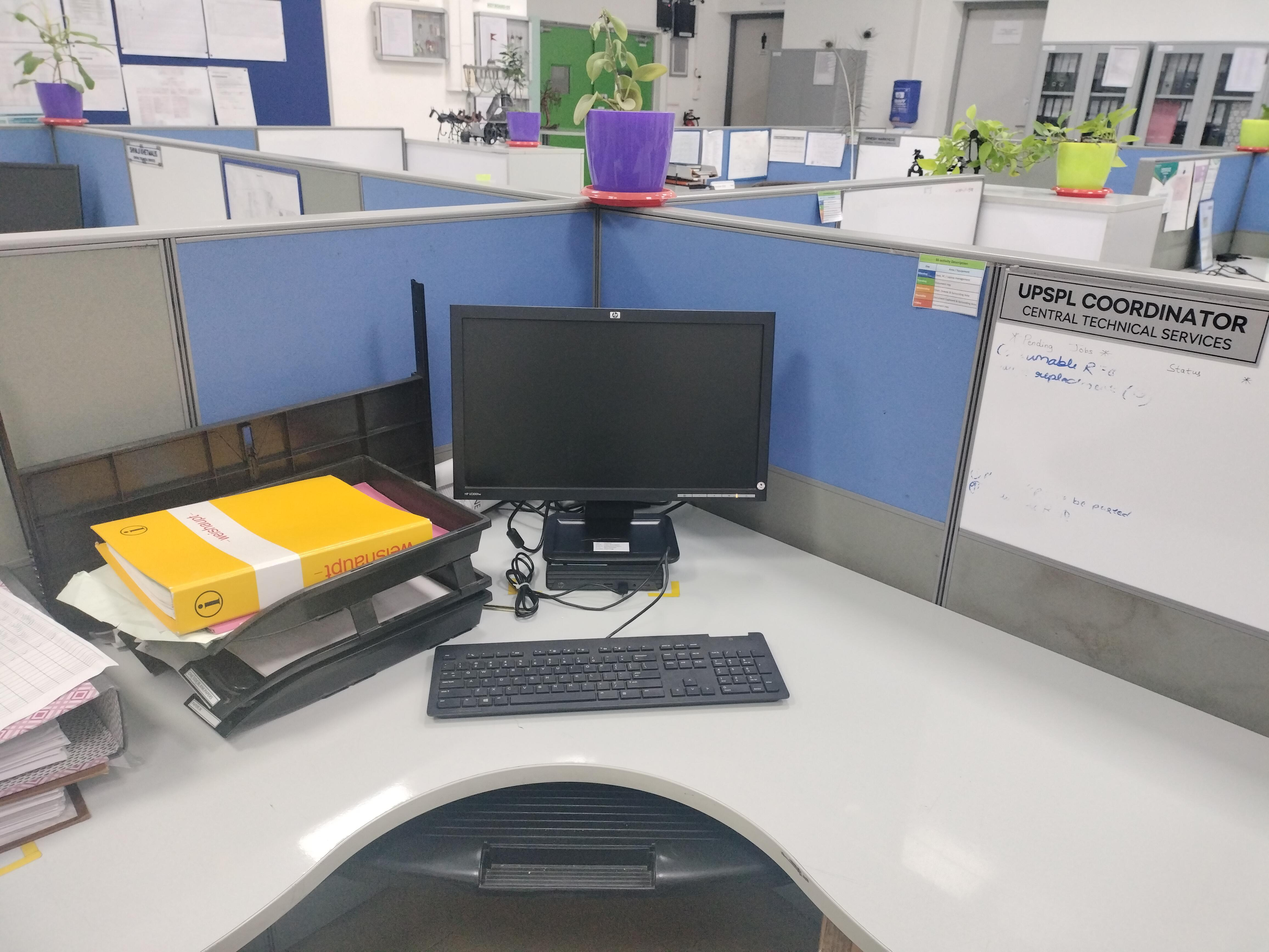StickyNotes: (905, 248, 993, 320)
desktop: (447, 300, 780, 565)
file: (84, 473, 435, 640), (1, 560, 132, 799), (1, 762, 116, 856)
filetray: (120, 450, 495, 747)
keyboard: (426, 629, 795, 720)
nameplate: (990, 261, 1269, 373)
page: (0, 583, 122, 733)
vase: (575, 101, 684, 212)
